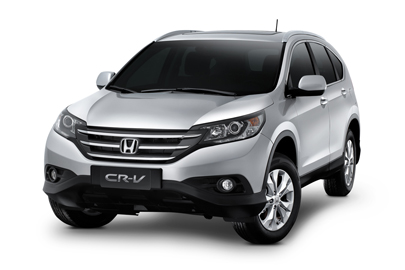Carro: (42, 24, 362, 244)
